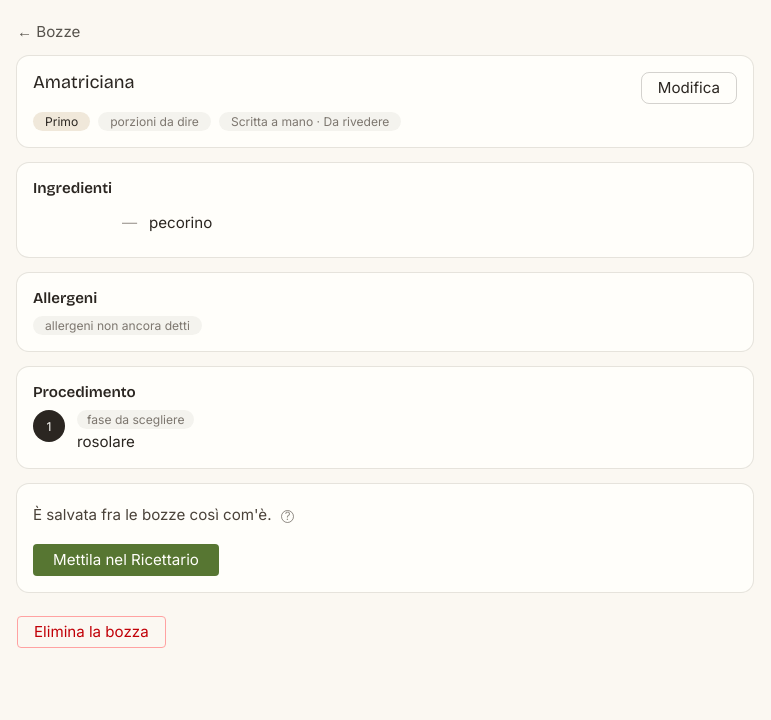
Test: i buchi si vedono prima della conferma › 🔴 elenca cosa manca, e «Crea la ricetta» resta spenta
Expected: the text "È salvata fra le bozze così com'è. ?" is shown, left=33, top=500, right=304, bottom=532
Expected: the text "Cosa manca per diventare una ricetta" is not shown
Click the button "Mettila nel Ricettario". click: (126, 560)
box: left=33, top=544, right=219, bottom=576
(page scrolled)
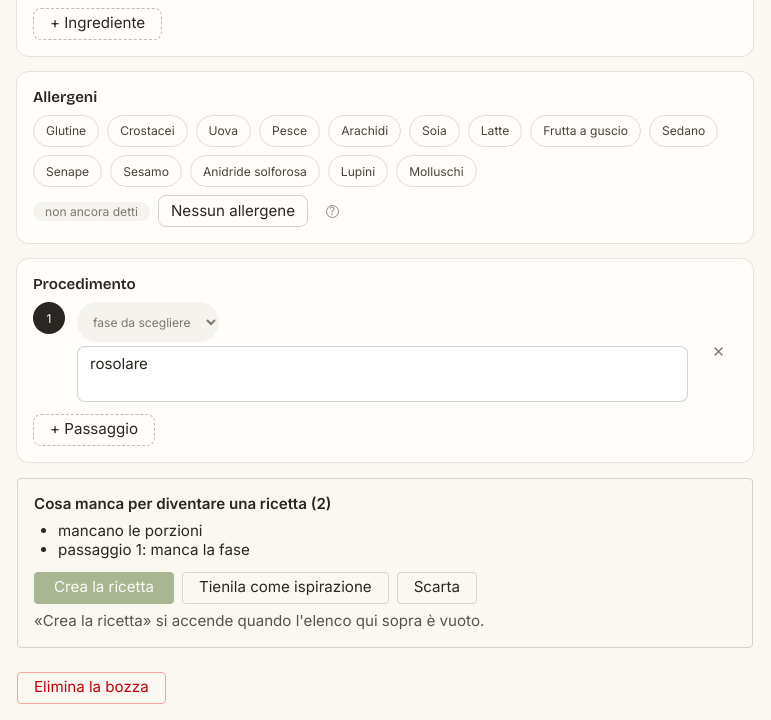
Expected: the heading "Cosa manca per diventare una ricetta (2)" is shown, left=34, top=494, right=332, bottom=513
Expected: the list item "mancano le porzioni" is shown, left=58, top=521, right=202, bottom=540
Expected: the list item "passaggio 1: manca la fase" is shown, left=58, top=540, right=250, bottom=559
